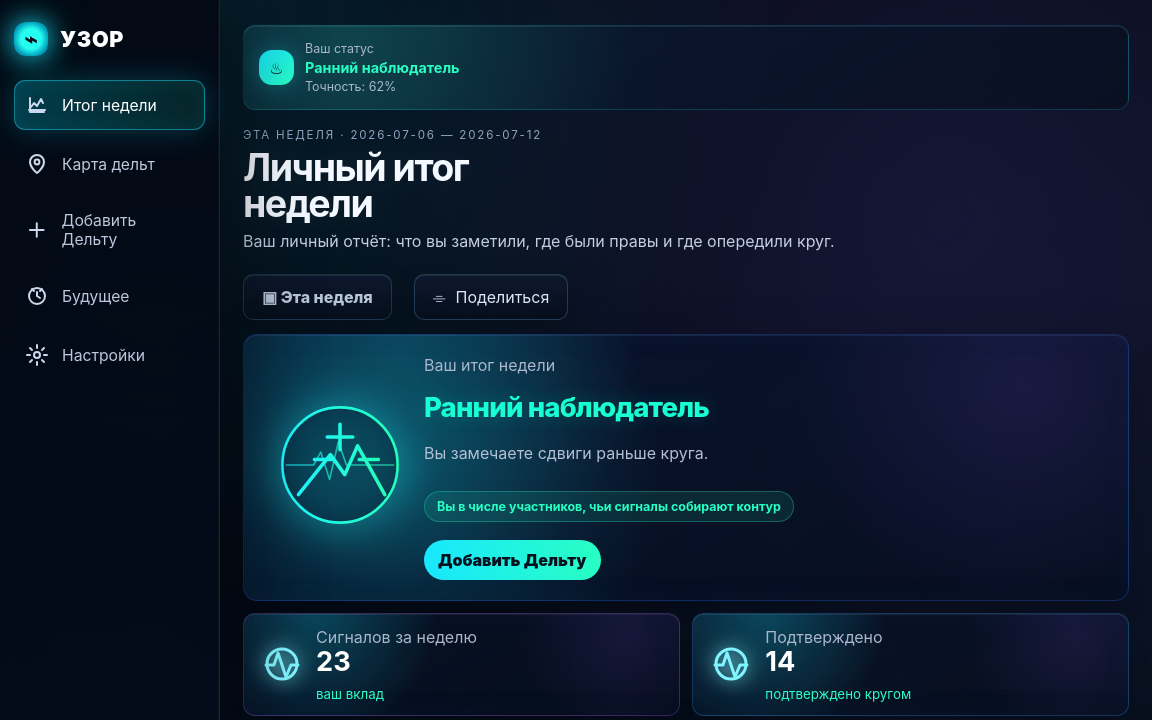
Test: wrapped dashboard › share button works and Add signal CTA goes to /contribute
What coordinates should you click on to do the following:
click the button "⌯Поделиться"
I would click on:
 (491, 296)
Its box is [414,274,568,320].
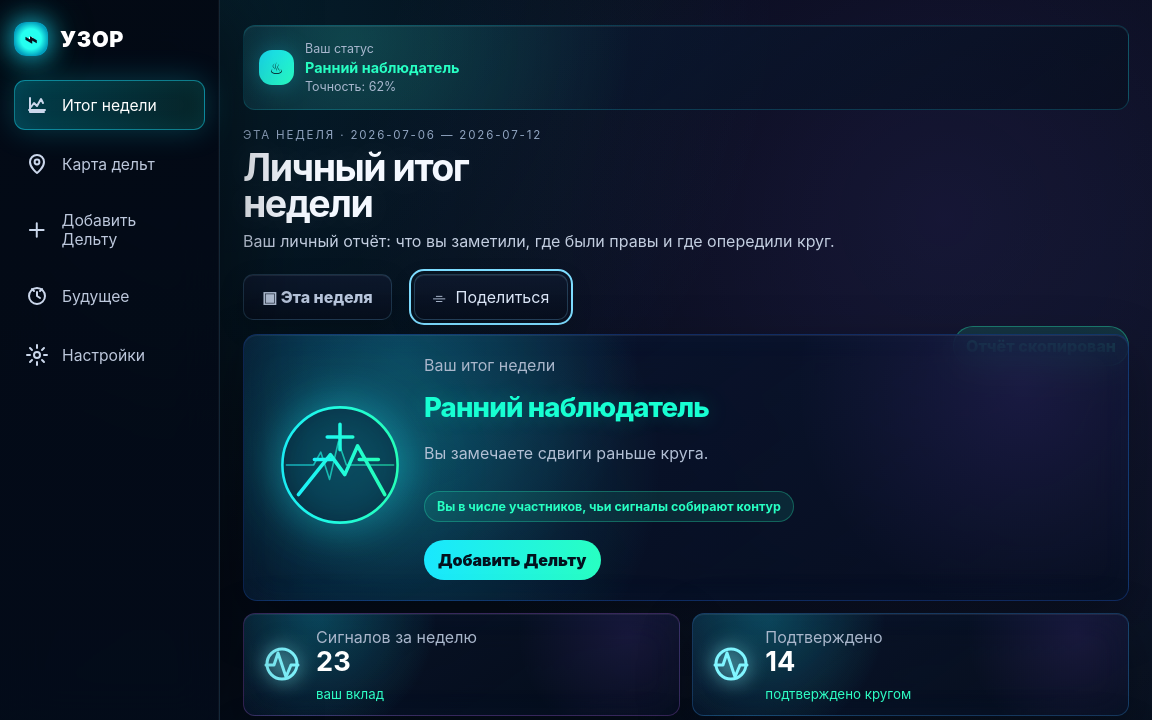
Expected: the text "Отчёт скопирован" is shown, [953,326,1129,366]
